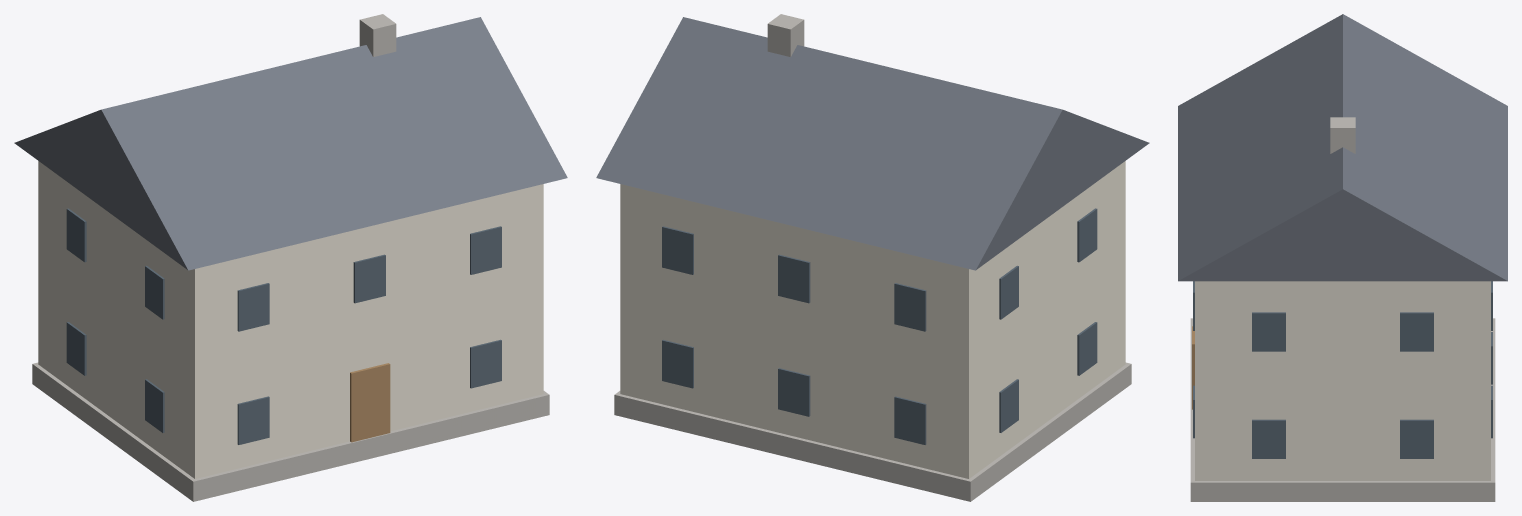
File: house_1.glb
3 views of the same model, side by side, from view 1: azimuth 30°, elevation 25°; view 2: azimuth 150°, elevation 25°; view 3: azimuth 270°, elevation 25° (orthographic). The views are drawn at different scales.
Visible parts, largest first — view 1: House.001; view 2: House.001; view 3: House.001.
Boxes of the visible parts, box(x1,y1,x2,y2) form: House.001: box(14, 14, 567, 501); House.001: box(596, 14, 1149, 501); House.001: box(1178, 14, 1507, 501).
Bounding box in the file's own units: 9.8 × 8.8 × 7.8.
